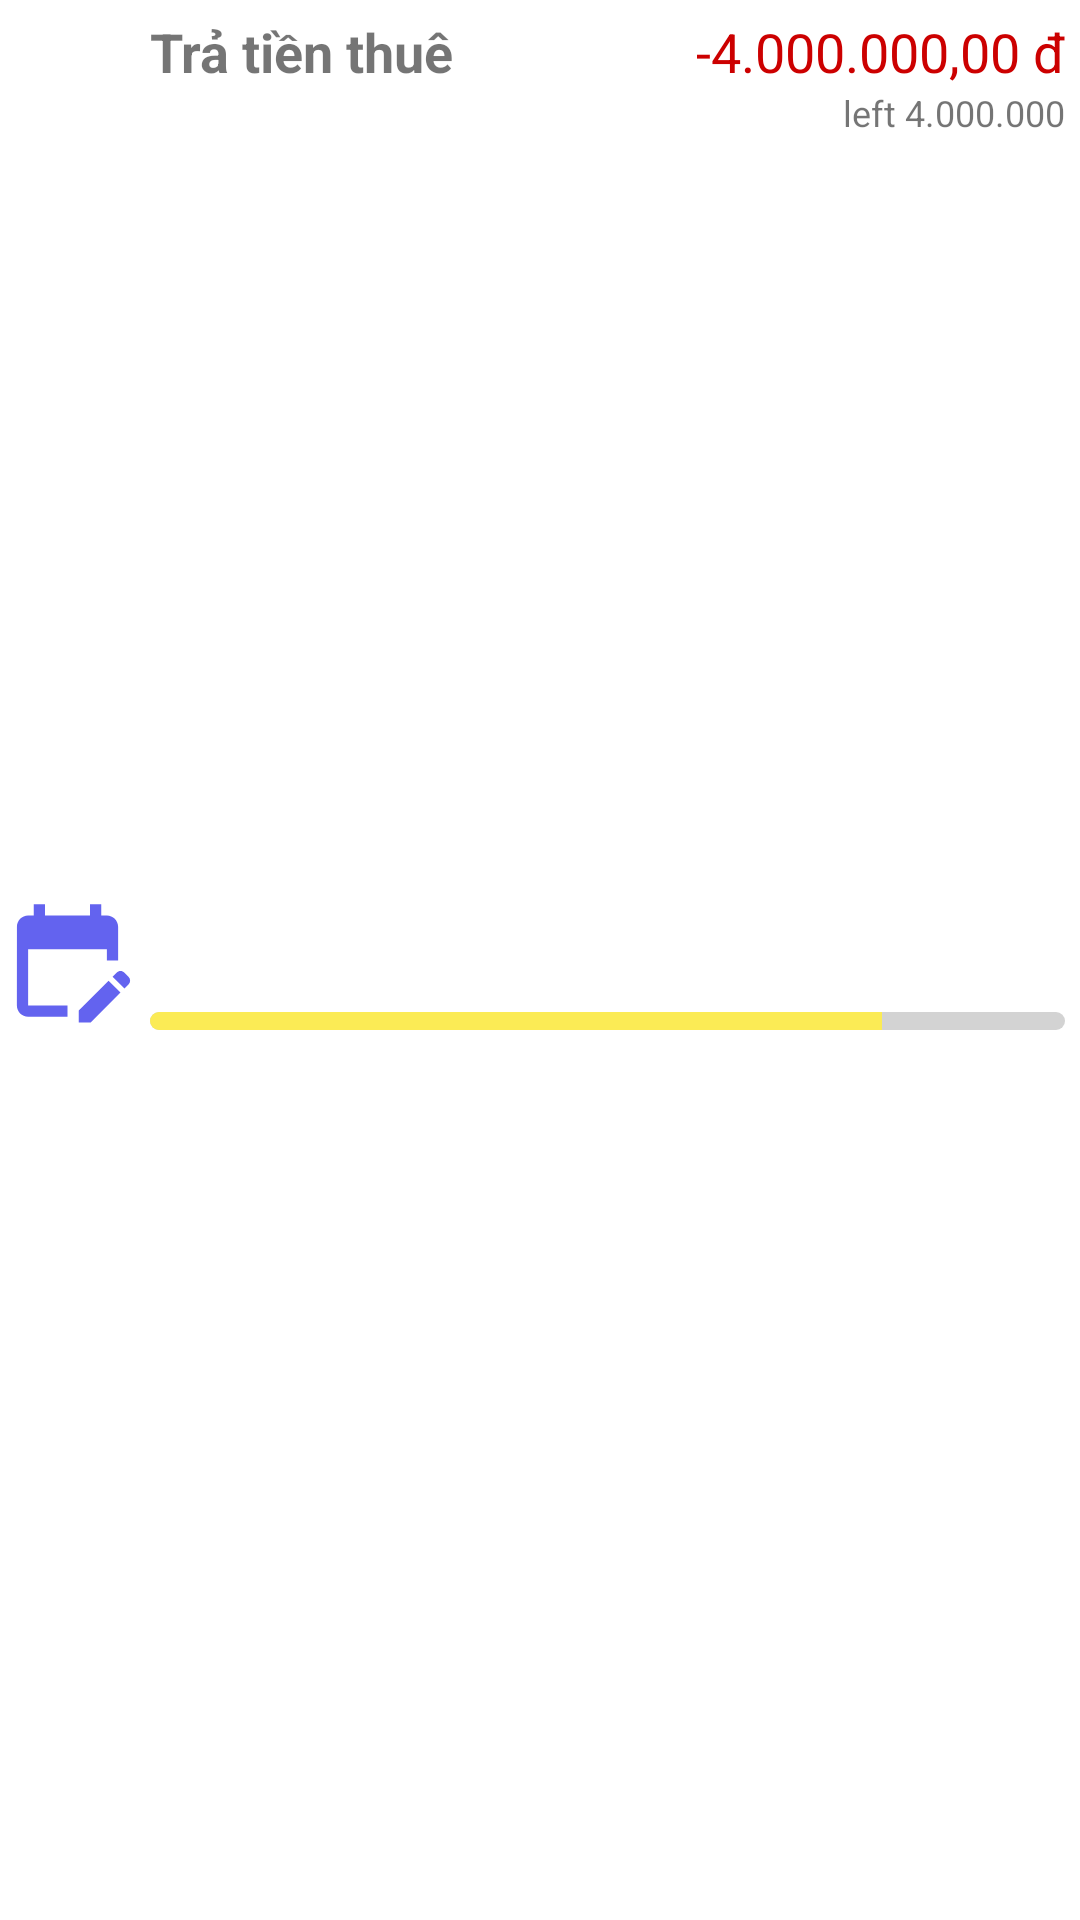

Icons on this 1080 × 1920 Android screen, each with its box as (x1, y1, x2, y2):
edit calendar: (17, 904, 130, 1023)
